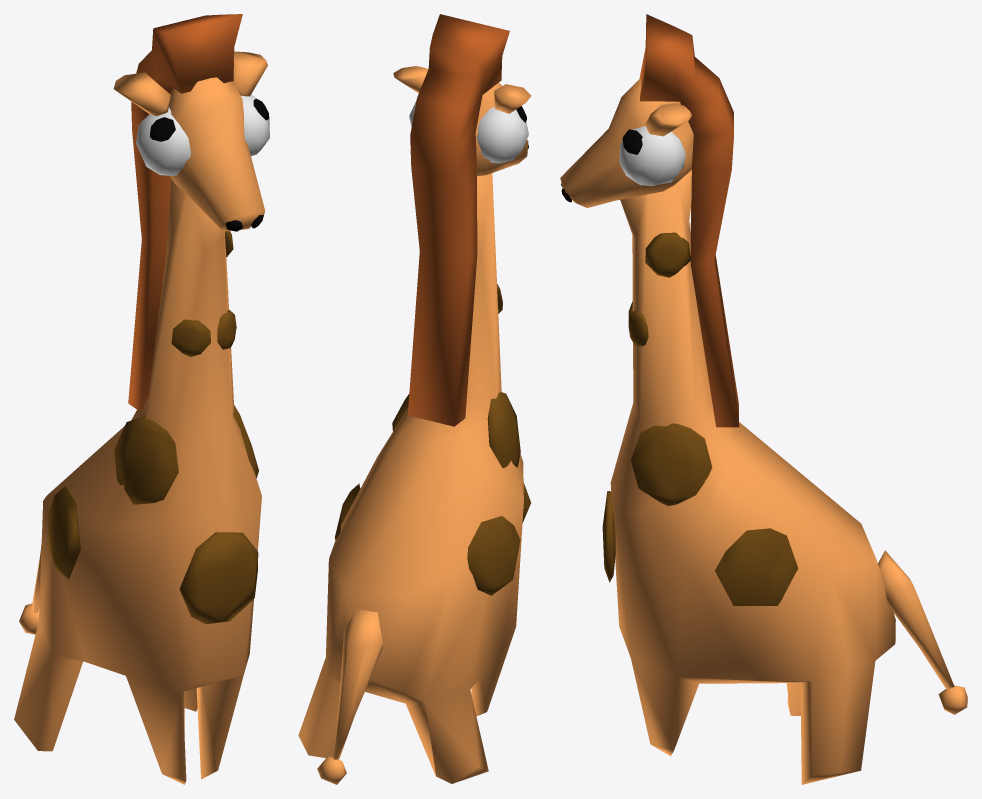
File: CHANGJINGLU.fbx
3 views of the same model, side by side, from view 1: azimuth 30°, elevation 25°; view 2: azimuth 150°, elevation 25°; view 3: azimuth 270°, elevation 25° (orthographic). The views are drawn at different scales.
Visible parts, largest first — view 1: 球体.017; view 2: 球体.017; view 3: 球体.017.
Part boxes in pixels (x1,y1,x2,y2): 球体.017: (14,14,269,784); 球体.017: (298,14,531,784); 球体.017: (560,14,967,784).
Bounding box in the file's own units: 141 × 543 × 279.
